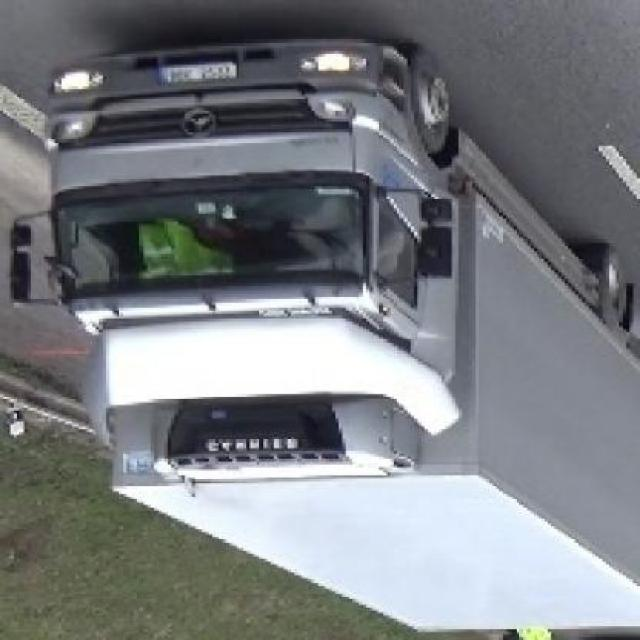truck: (18, 41, 640, 633)
